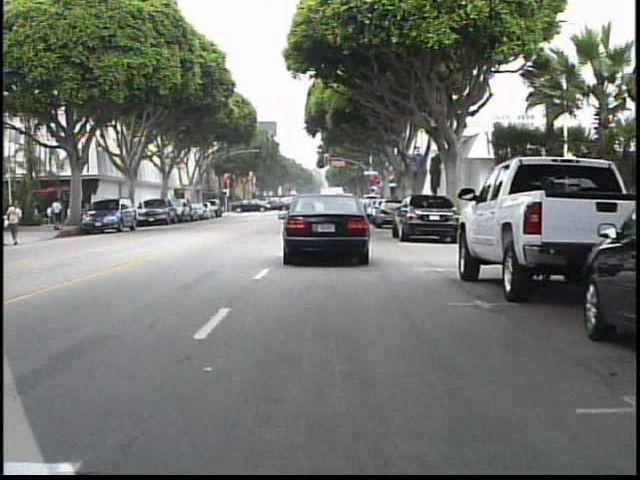person: (6, 194, 28, 250), (52, 195, 68, 231), (275, 193, 276, 216)
